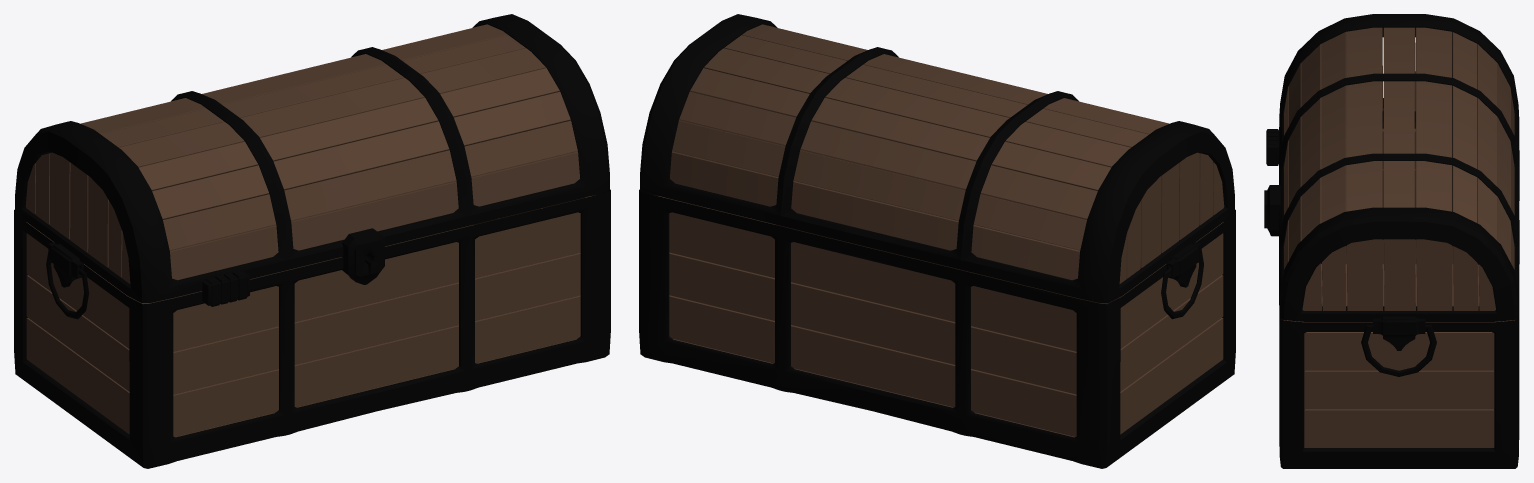
Rendered from Treasure chest.fbx.
3 views of the same model, side by side, from view 1: azimuth 30°, elevation 25°; view 2: azimuth 150°, elevation 25°; view 3: azimuth 270°, elevation 25° (orthographic). The views are drawn at different scales.
Parts seen in each view (by area): view 1: TreasureChest.016; view 2: TreasureChest.016; view 3: TreasureChest.016.
Boxes of the visible parts, box(x1,y1,x2,y2) form: TreasureChest.016: box(14, 14, 610, 468); TreasureChest.016: box(639, 14, 1235, 468); TreasureChest.016: box(1264, 14, 1519, 468).
Bounding box in the file's own units: 1.52 × 0.8063 × 0.7347.
